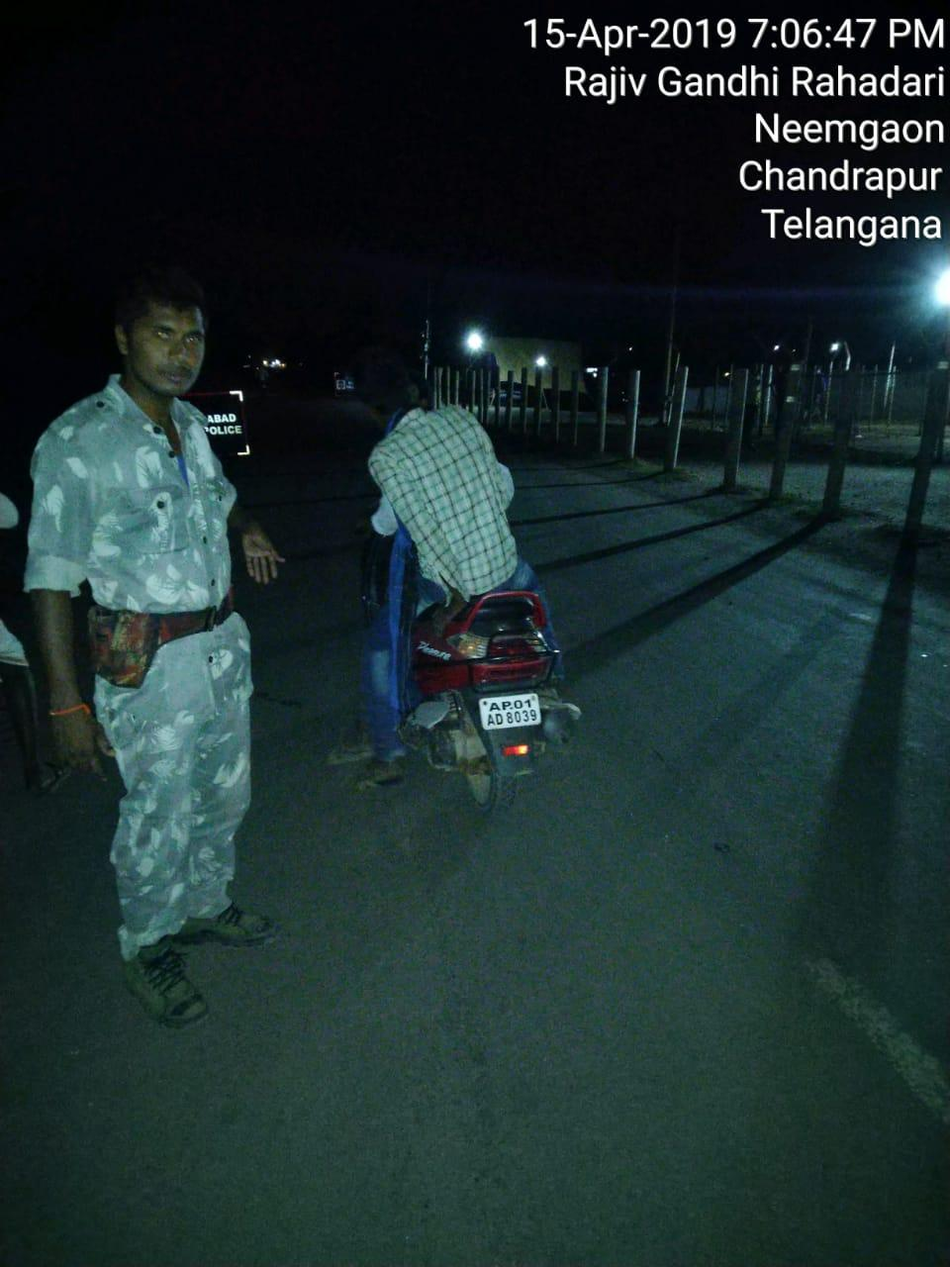plate: (463, 687, 553, 744)
